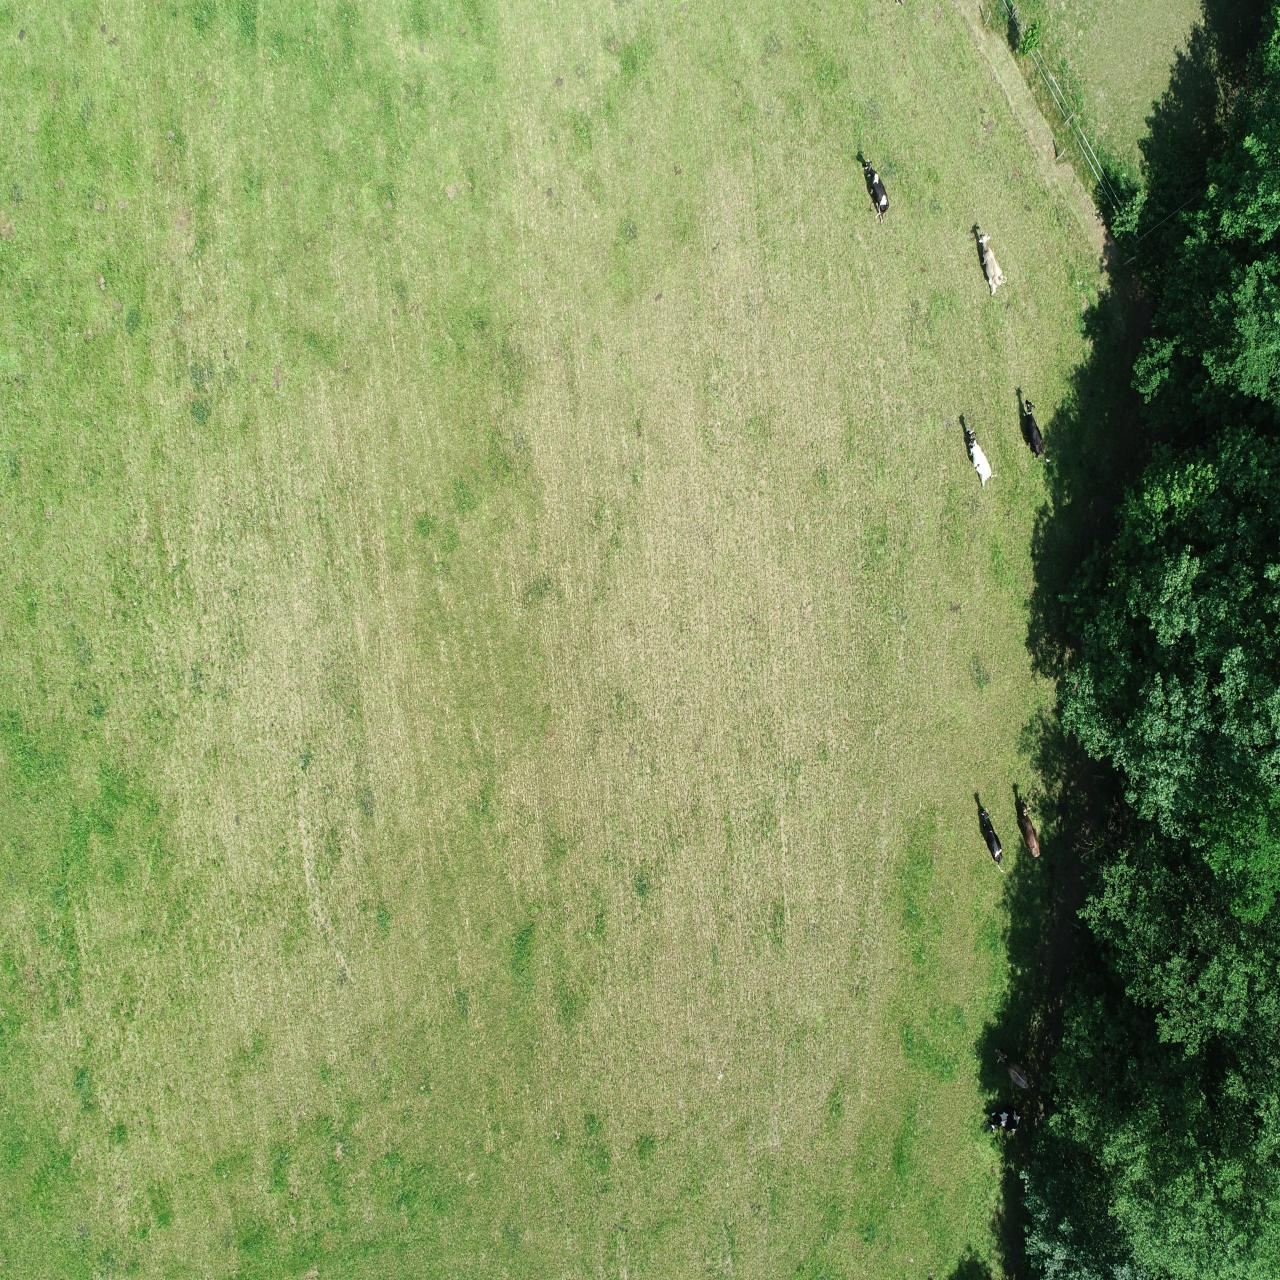cow: (961, 424, 999, 491), (975, 805, 1009, 877), (975, 230, 1008, 302), (1022, 396, 1054, 469), (990, 1046, 1033, 1098), (859, 157, 890, 225), (1013, 794, 1042, 862), (983, 1105, 1024, 1137)
